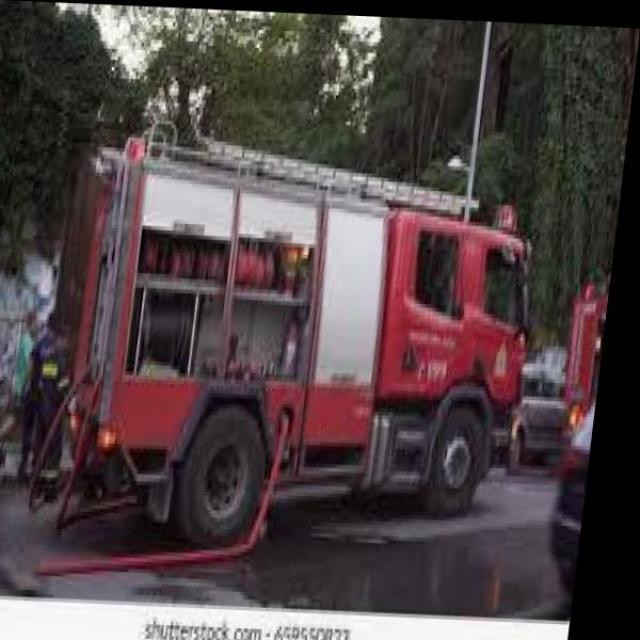emergency: (38, 130, 534, 548)
